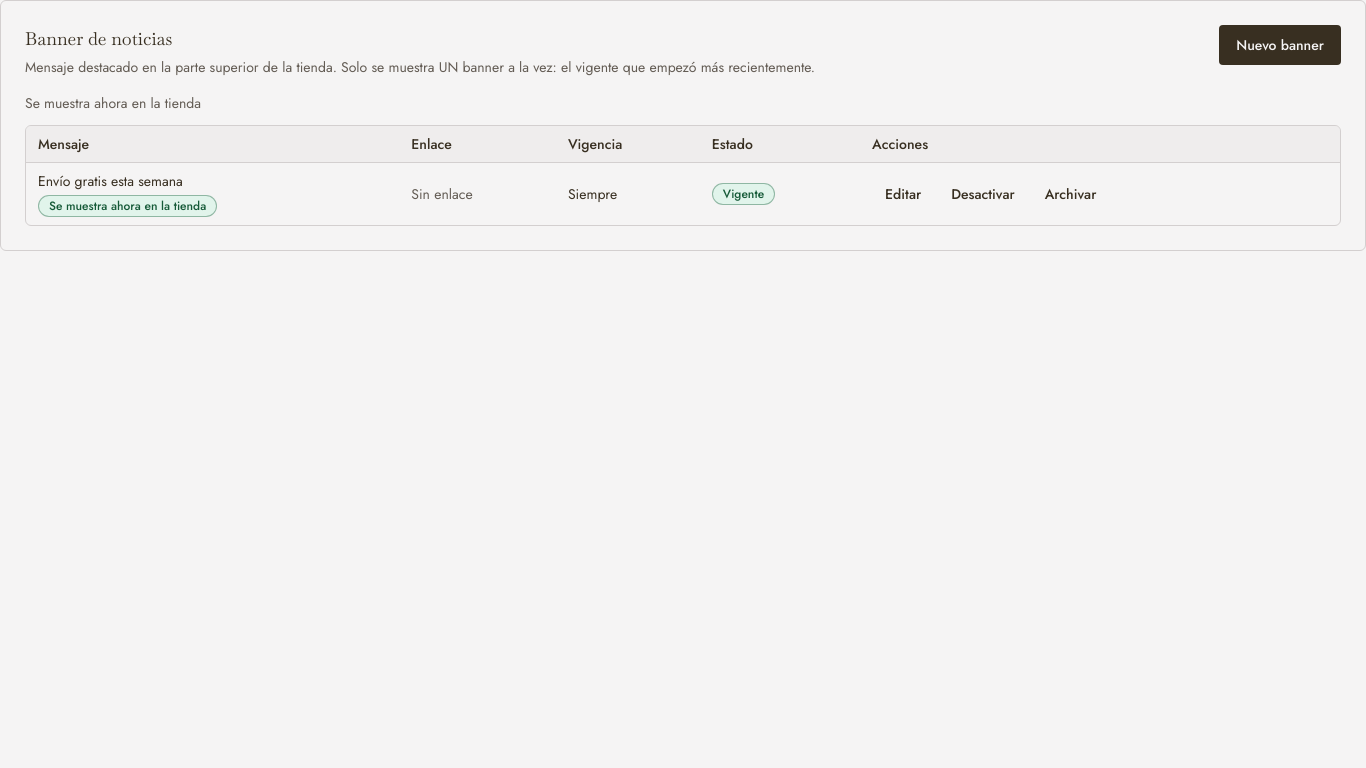
it: BannersSection: crear y editar › si la base rechaza, el diálogo queda abierto con el motivo (no se pierde lo escrito)
Click the button "Nuevo banner" at (1280, 45), box left=1219, top=25, right=1341, bottom=65
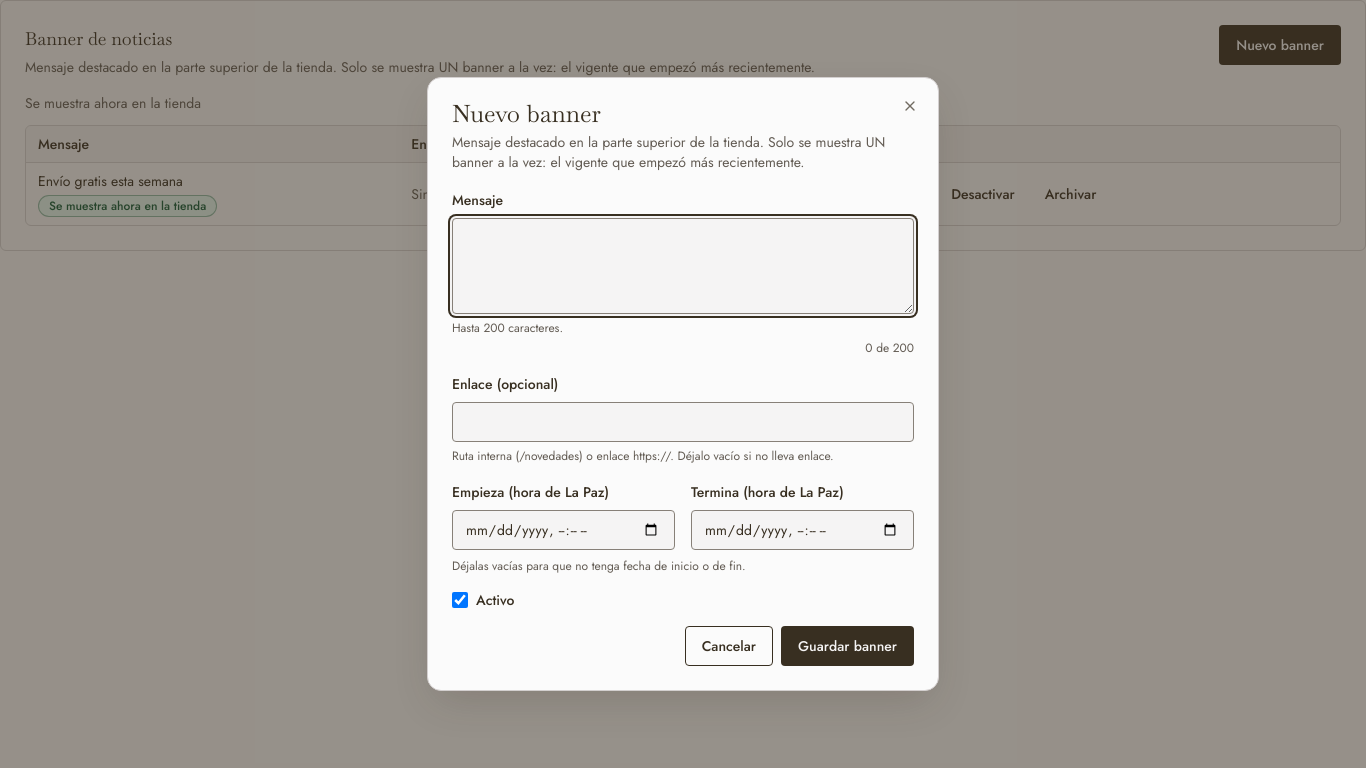
Type "Promo" into the text box labelled "Mensaje" at (683, 266), box left=452, top=218, right=914, bottom=314
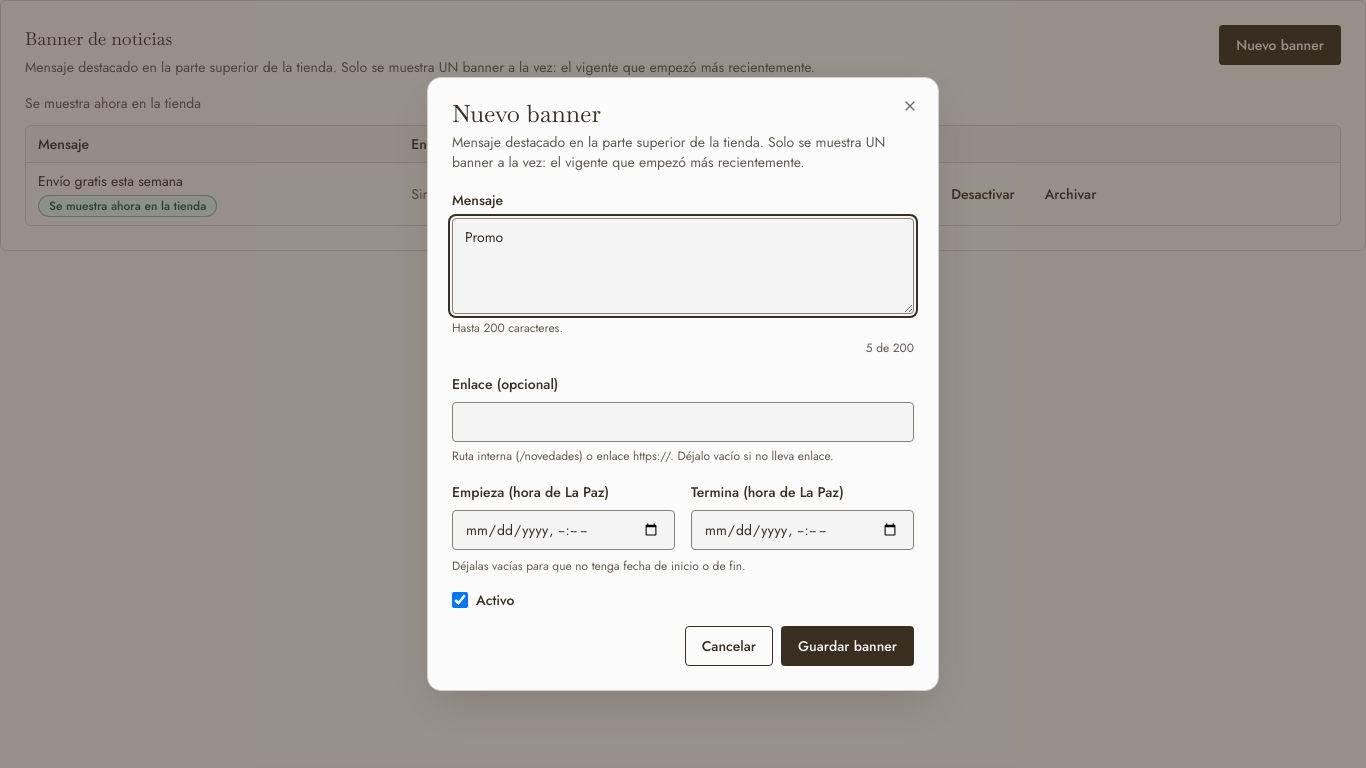
Click the button "Guardar banner" at (848, 646), box left=781, top=626, right=914, bottom=666
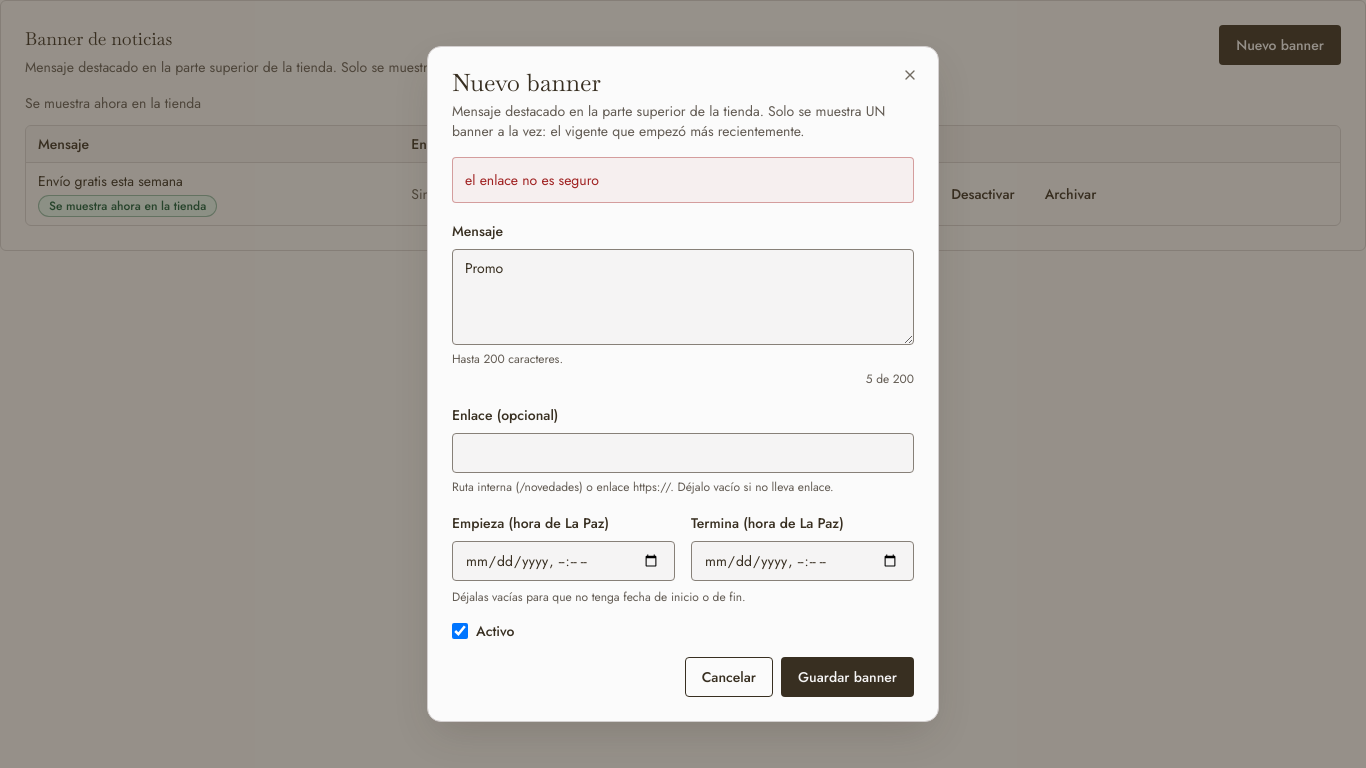
Check: the dialog is shown, box left=427, top=46, right=939, bottom=722
Check: the message reads "el enlace no es seguro", box left=465, top=170, right=599, bottom=190
